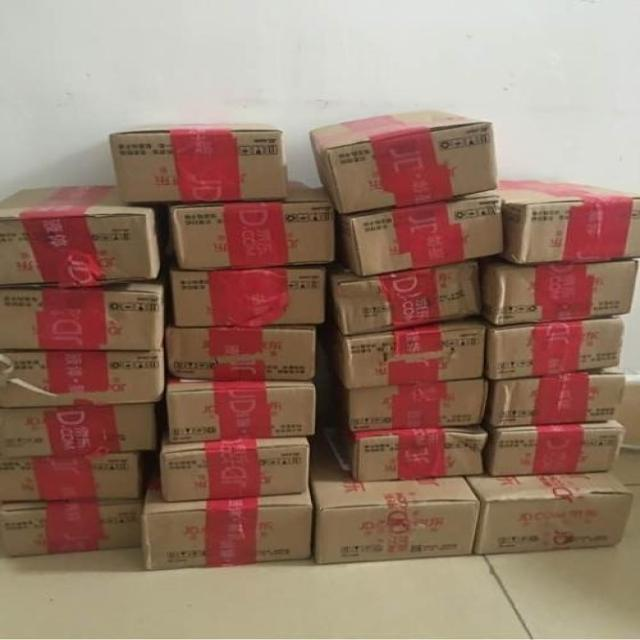Carton: (343, 178, 639, 273), (466, 424, 631, 554), (307, 107, 494, 212), (0, 349, 161, 455), (312, 479, 479, 560), (110, 130, 283, 200), (138, 505, 307, 570), (0, 215, 151, 284), (174, 202, 333, 267), (332, 263, 477, 332), (483, 261, 634, 323), (164, 436, 308, 499), (343, 322, 485, 385), (3, 289, 159, 346), (166, 386, 311, 442), (489, 316, 620, 377), (173, 270, 320, 323), (0, 502, 137, 556), (169, 328, 311, 380), (349, 379, 485, 431), (356, 425, 488, 478), (490, 374, 623, 425), (0, 454, 134, 504), (0, 185, 115, 213)
